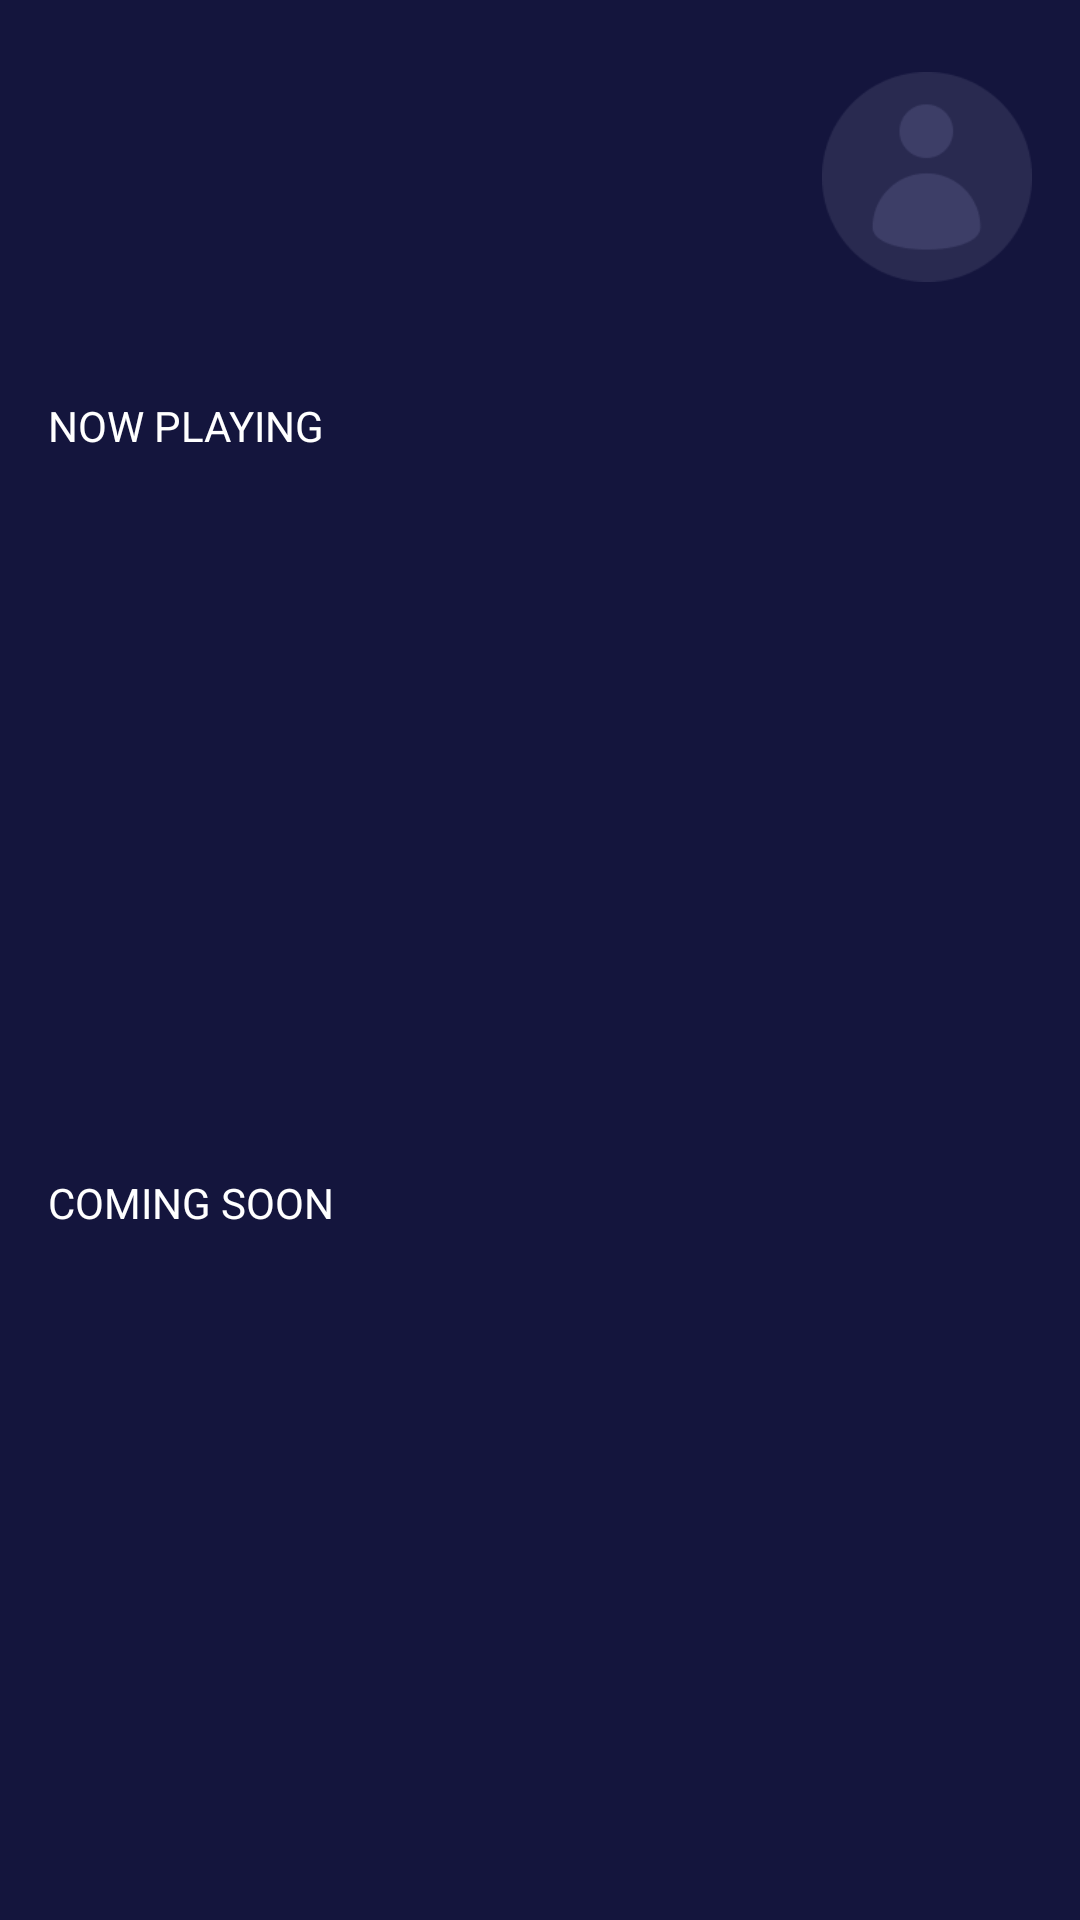

Screen size 1080px x 1920px. Icon name, then its center in pixels as [x,y]:
user pic: [926,177]
